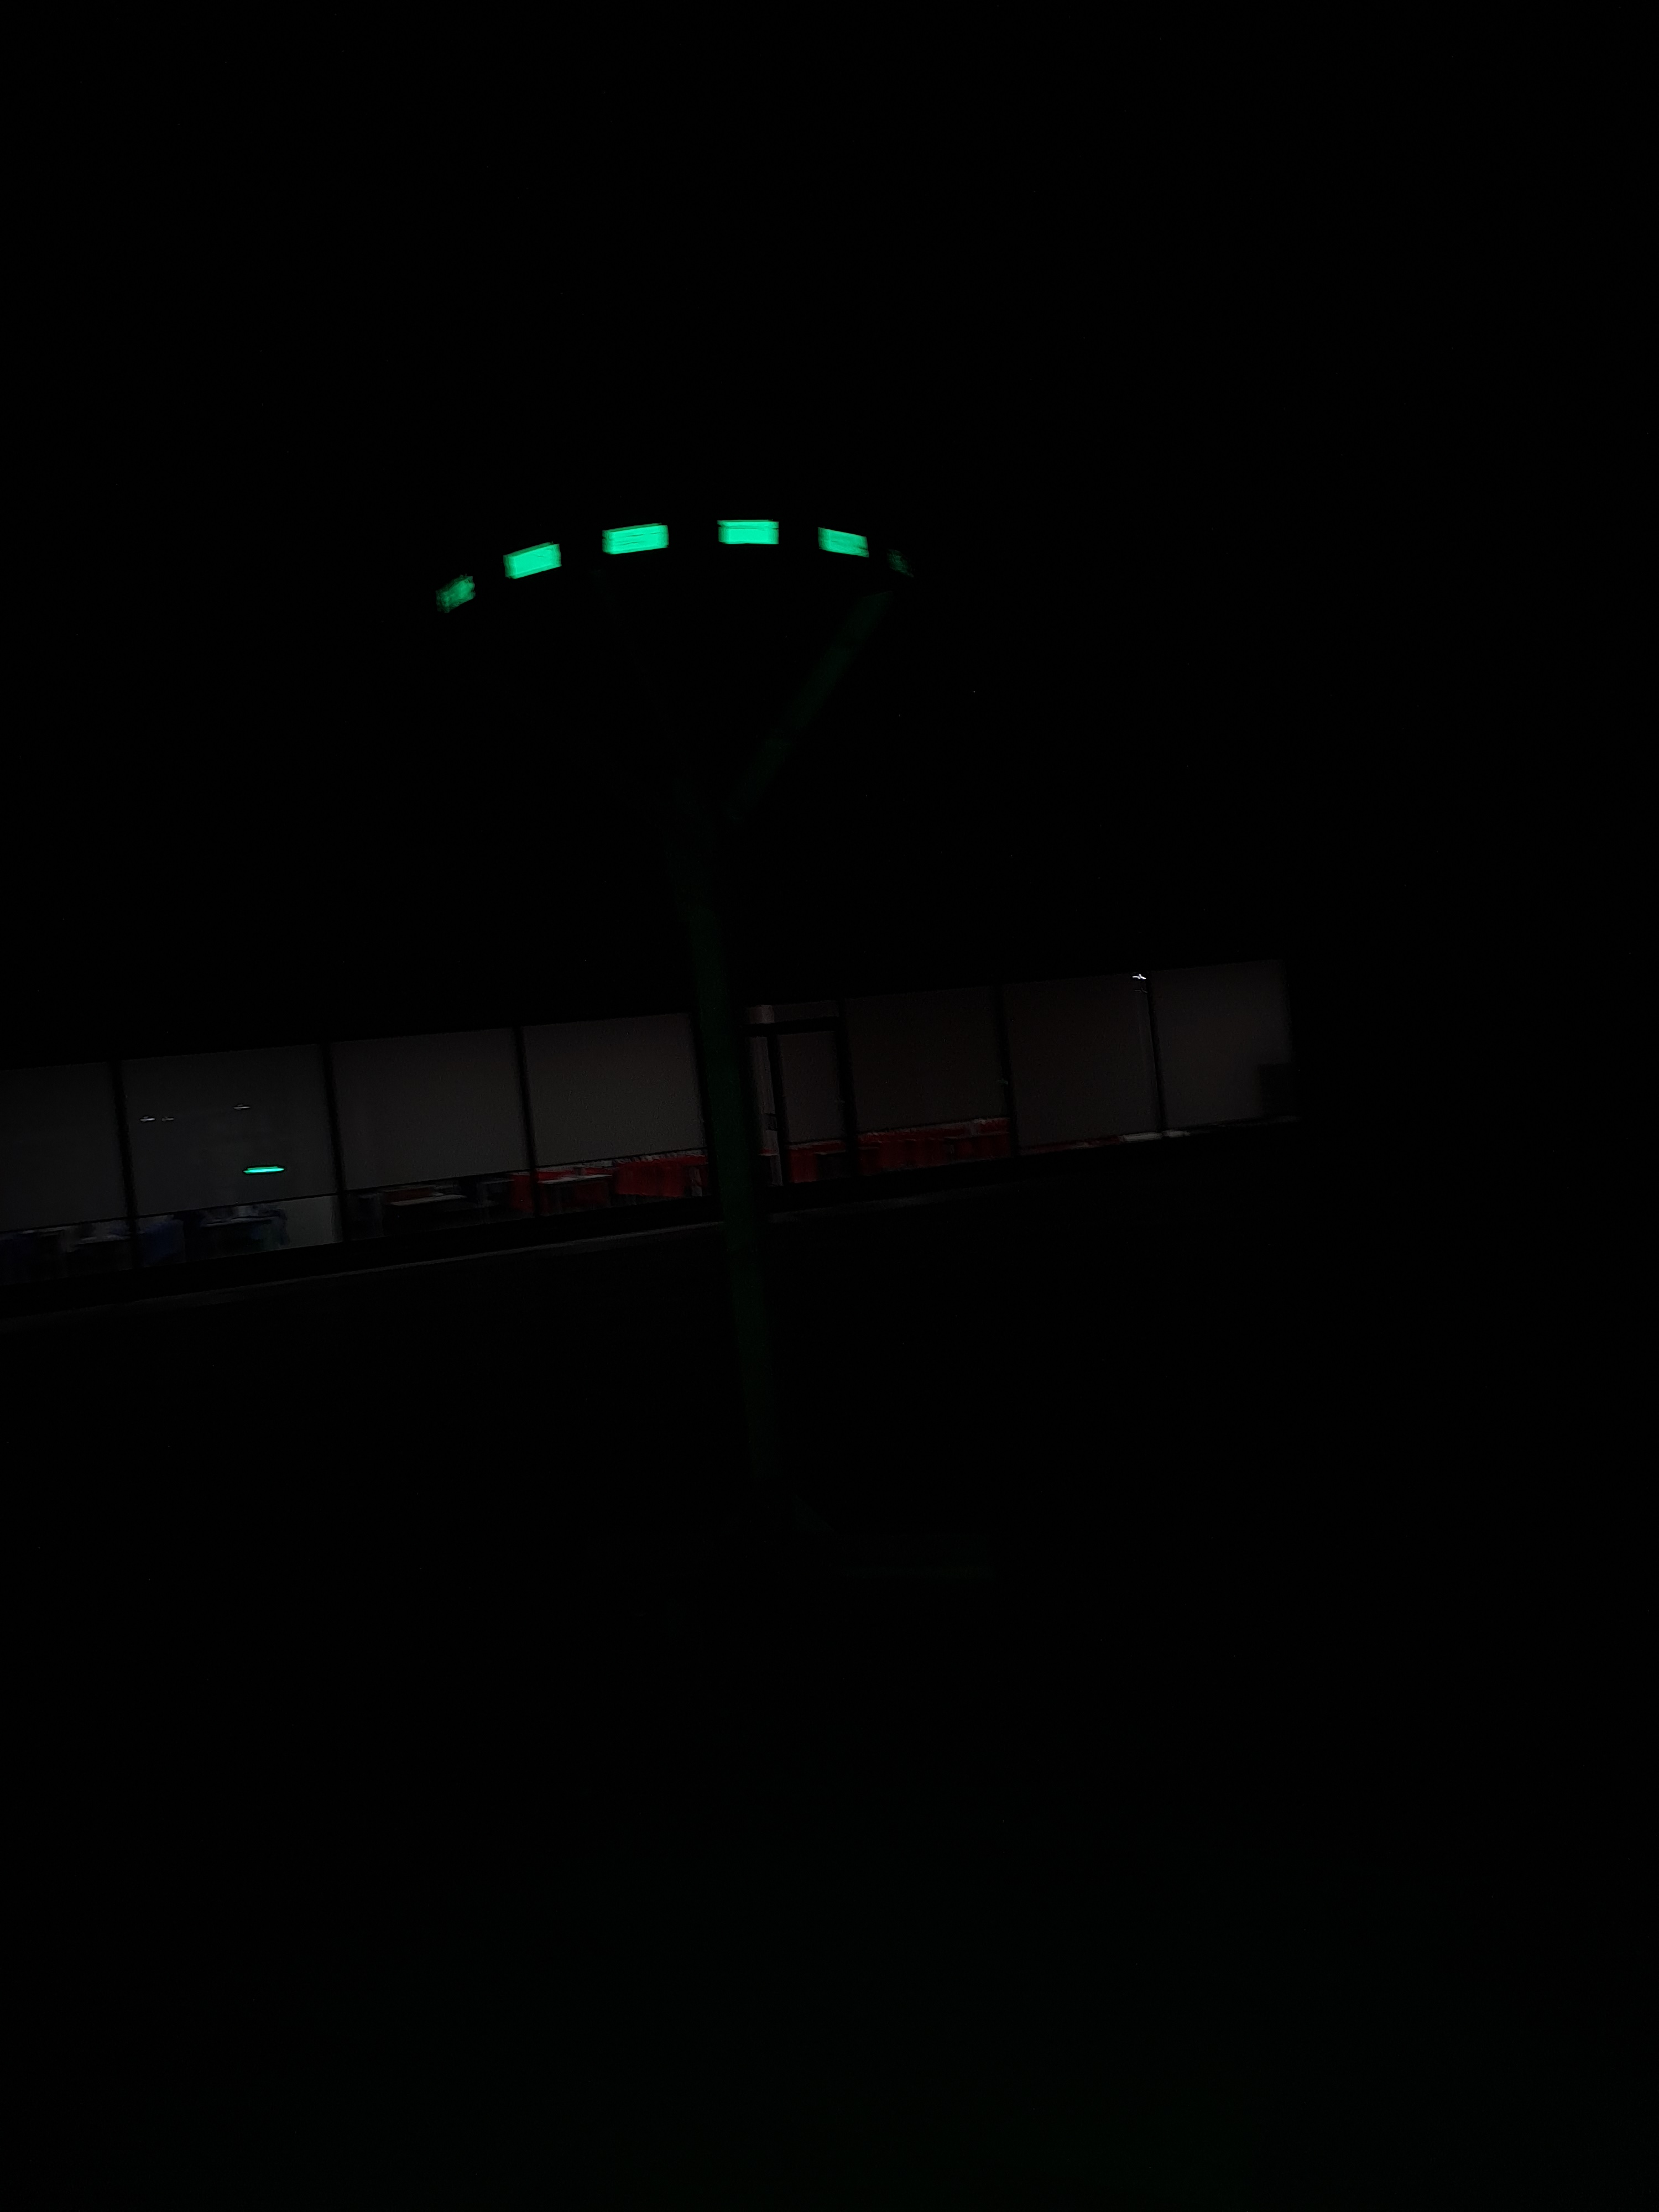hoop: (432, 516, 873, 631)
